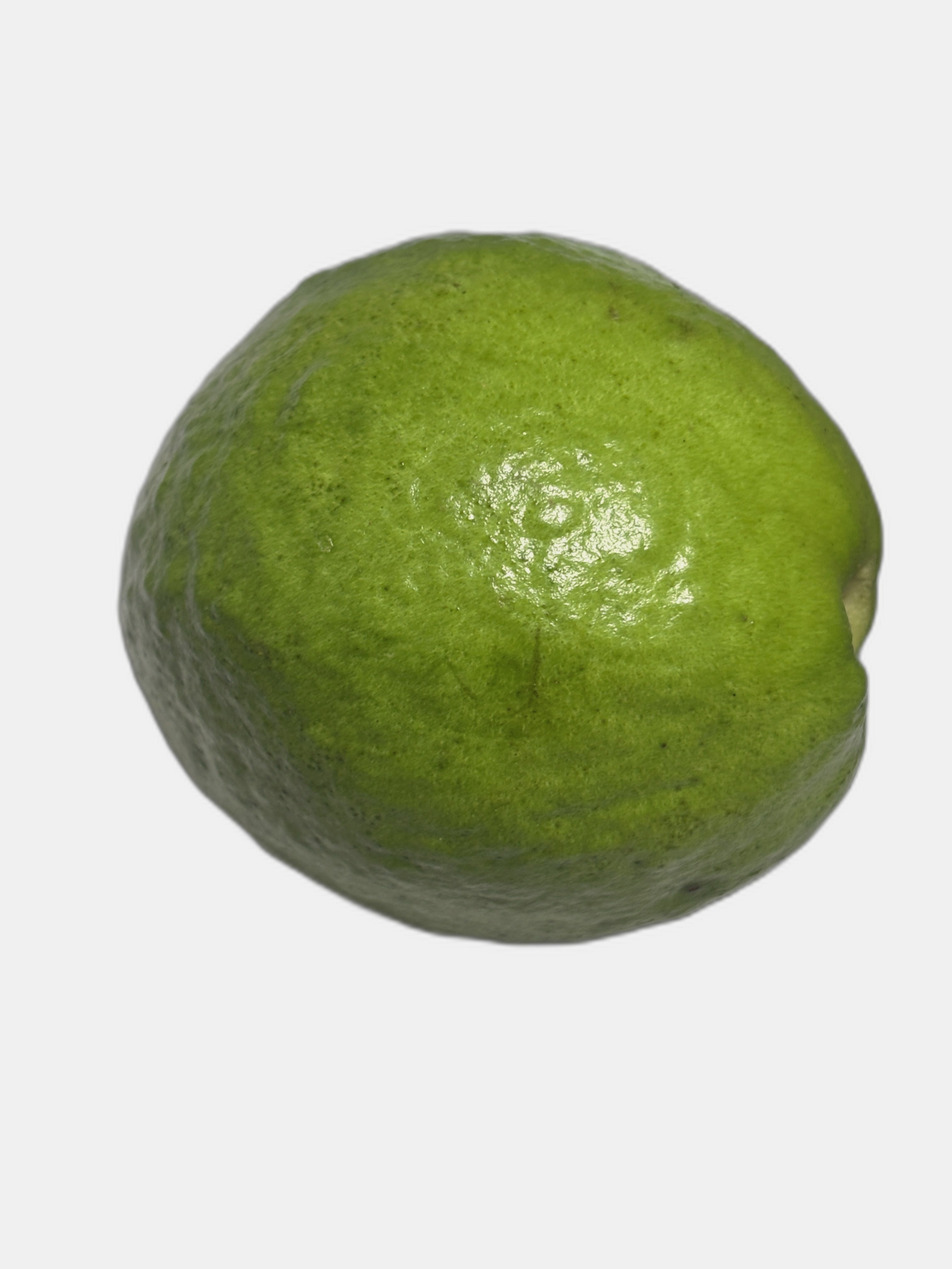guava: (38, 332, 817, 1155)
